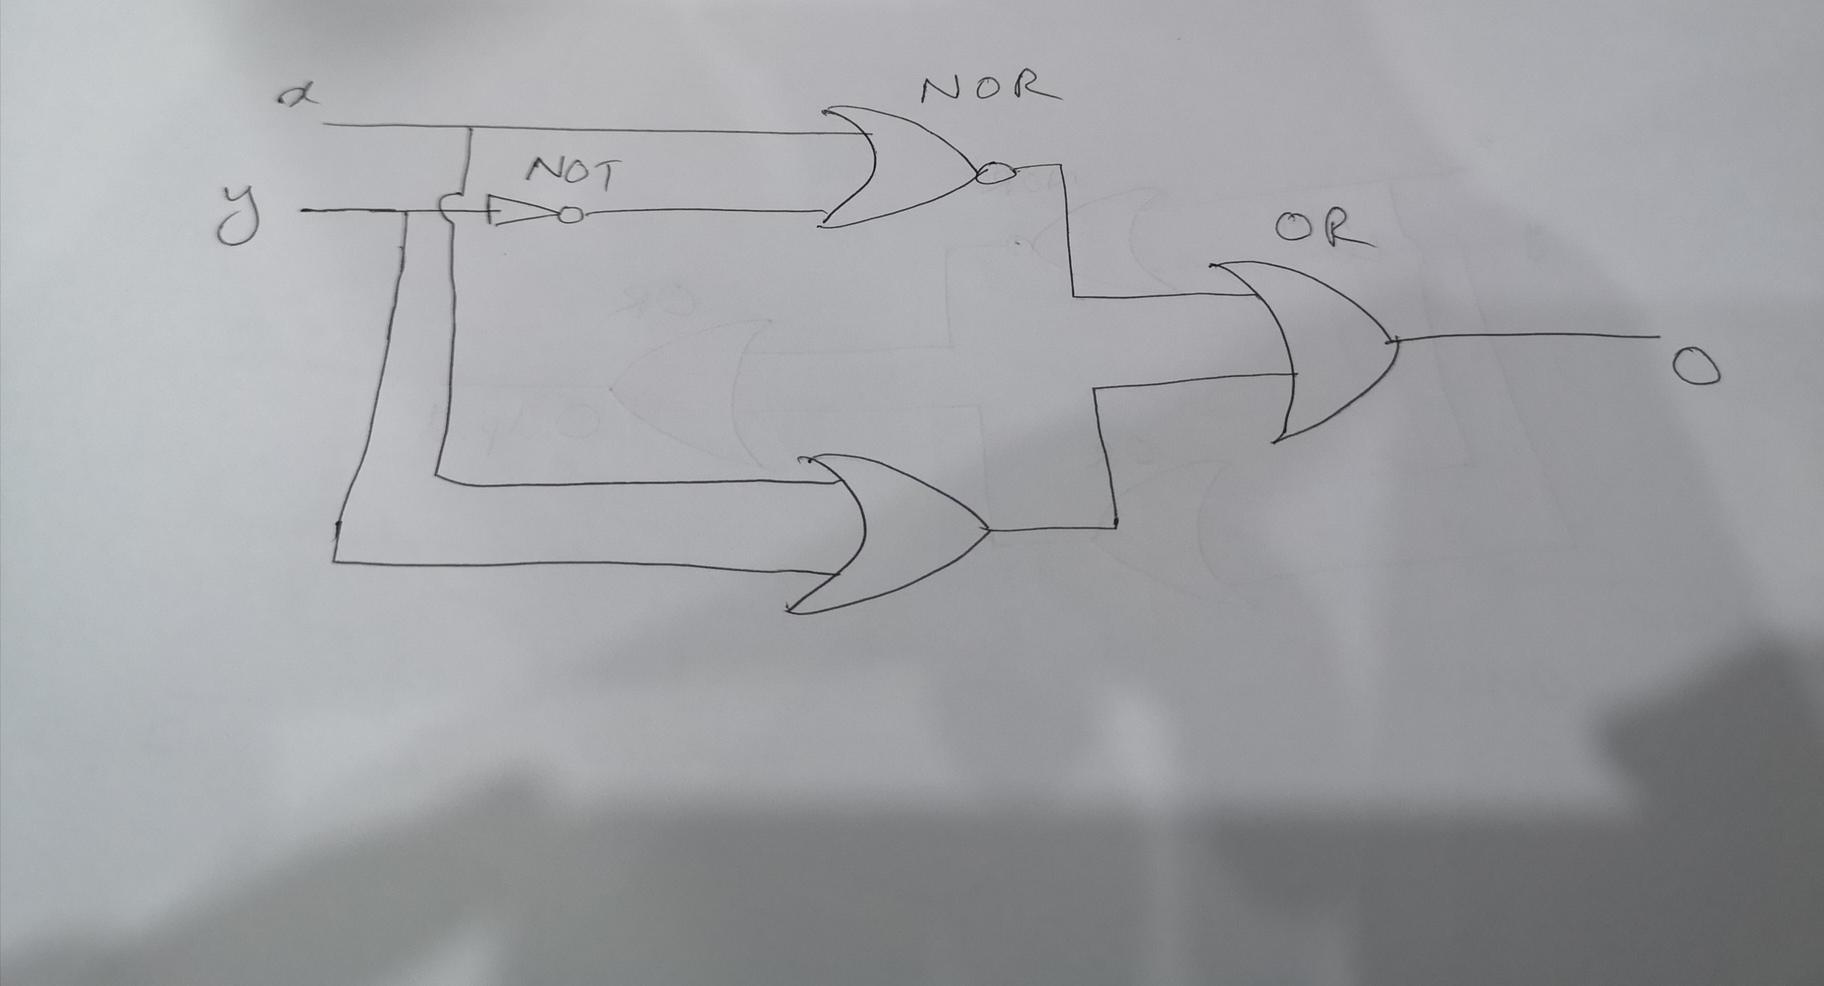crossover: (434, 189, 468, 225)
junction: (1102, 509, 1129, 539), (1083, 378, 1108, 399), (425, 463, 447, 487), (1062, 287, 1086, 307), (392, 202, 414, 223), (1049, 153, 1070, 174), (323, 552, 345, 569), (461, 119, 479, 136)
nor: (809, 95, 1024, 237)
not: (481, 189, 595, 231)
or: (771, 442, 1001, 625), (1201, 254, 1413, 449)
terminal: (291, 200, 316, 219), (1648, 327, 1667, 344), (317, 118, 333, 131)
text: (920, 66, 1057, 112), (1265, 204, 1375, 249), (521, 151, 624, 194), (208, 178, 265, 251), (1669, 342, 1731, 391), (272, 79, 322, 109)
